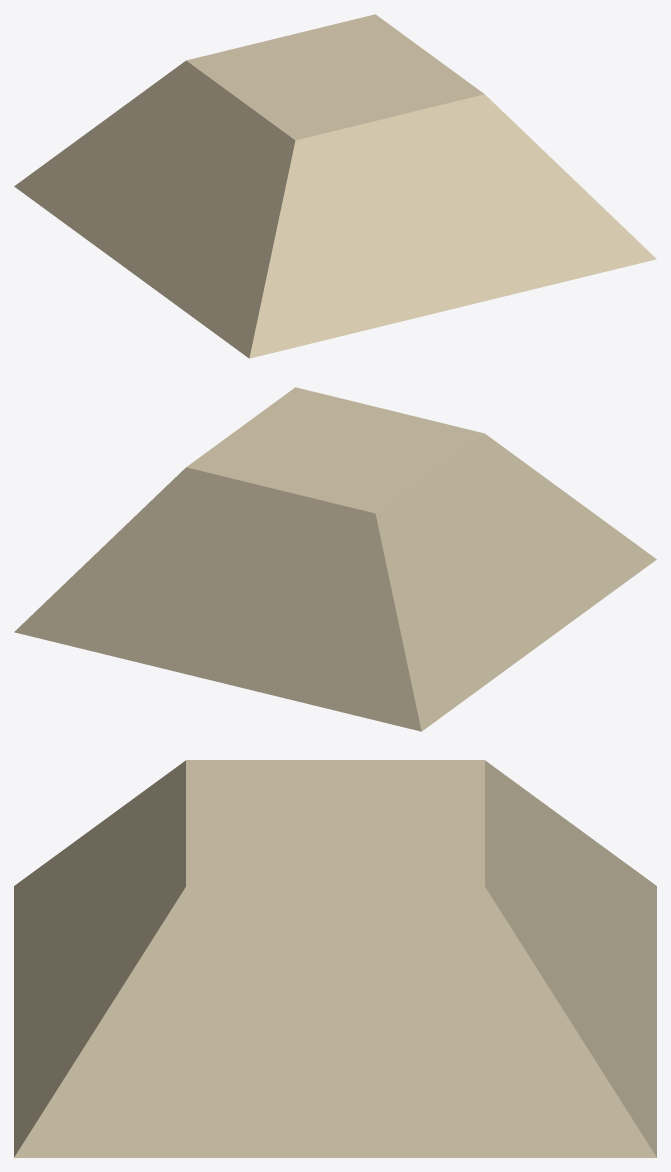
The model's file is giza-khufu-b90.glb.
3 renders of one model, top to bottom at view 1: azimuth 30°, elevation 25°; view 2: azimuth 150°, elevation 25°; view 3: azimuth 270°, elevation 25°, orthographic. The views are drawn at different scales.
Bounding box in the file's own units: 230 × 78.54 × 230.
